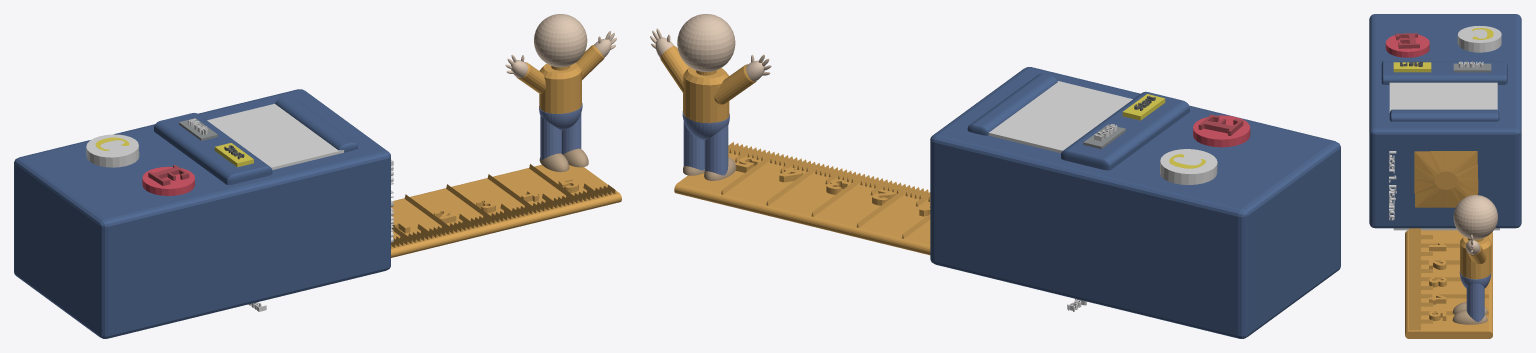
The model's file is 04 Senso - Mode 1.glb.
The picture shows the model from 3 angles, left to right: view 1: azimuth 30°, elevation 25°; view 2: azimuth 150°, elevation 25°; view 3: azimuth 270°, elevation 25°; orthographic projection. The views are drawn at different scales.
Parts seen in each view (by area): view 1: Mesh_Mesh_head_geo.001_lambert2SG.001; view 2: Mesh_Mesh_head_geo.001_lambert2SG.001; view 3: Mesh_Mesh_head_geo.001_lambert2SG.001.
Boxes of the visible parts, x1,y1,x2,y2 form: Mesh_Mesh_head_geo.001_lambert2SG.001: [14, 14, 621, 338]; Mesh_Mesh_head_geo.001_lambert2SG.001: [650, 14, 1340, 338]; Mesh_Mesh_head_geo.001_lambert2SG.001: [1369, 14, 1521, 338].
Size of the model in its own units: 139 by 40.02 by 38.01.
